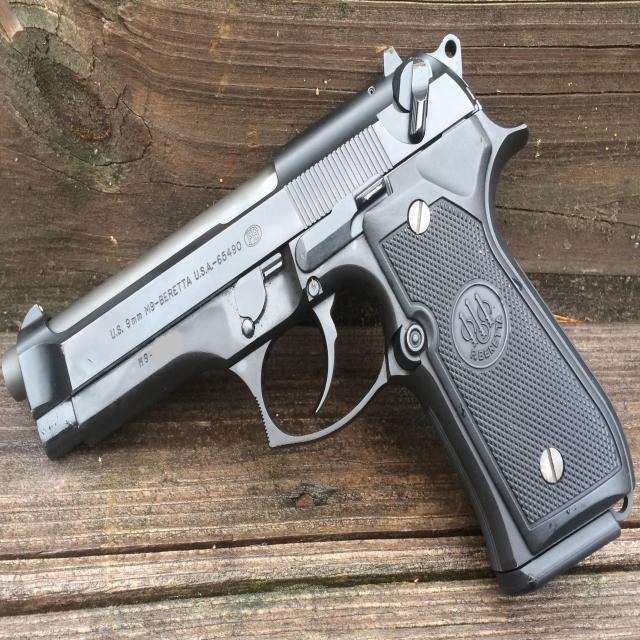Gun: (1, 28, 612, 542)
